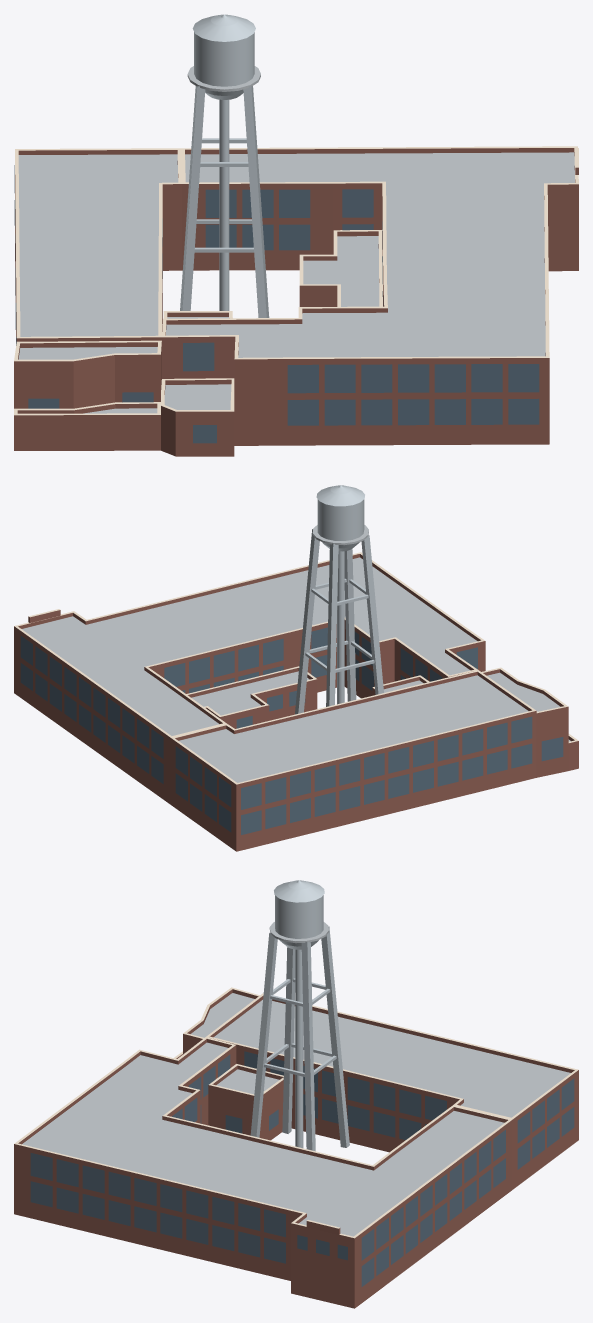
Rendered from detail.glb.
3 views of the same model, one above another, from view 1: azimuth 30°, elevation 25°; view 2: azimuth 150°, elevation 25°; view 3: azimuth 270°, elevation 25° (orthographic). The views are drawn at different scales.
Parts seen in each view (by area): view 1: design-center-of-the-carolinas; view 2: design-center-of-the-carolinas; view 3: design-center-of-the-carolinas.
Part boxes in pixels (x1=…): design-center-of-the-carolinas: x1=14, y1=14, x2=578, y2=456; design-center-of-the-carolinas: x1=14, y1=485, x2=578, y2=851; design-center-of-the-carolinas: x1=14, y1=880, x2=578, y2=1308.
Size of the model in its own units: 81.27 by 40.6 by 75.69.
